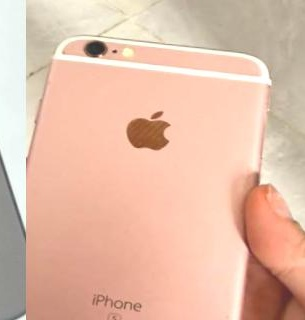scratch: (243, 162, 254, 188), (221, 312, 231, 320), (61, 49, 67, 55), (47, 80, 52, 86)
